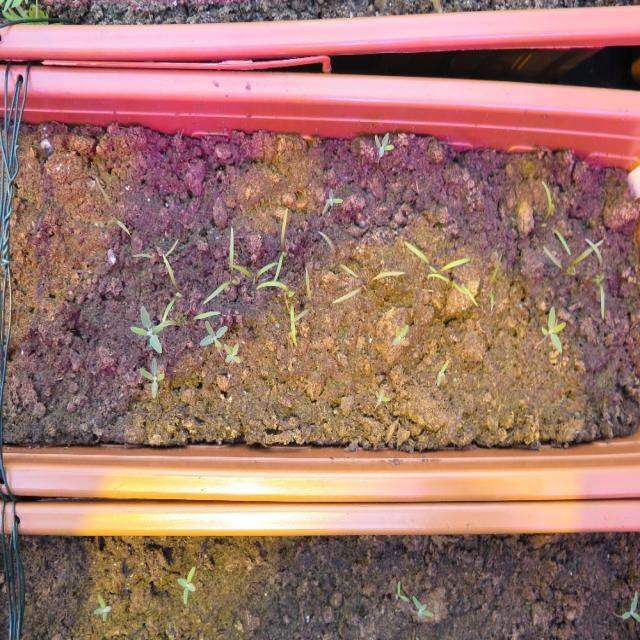weed: (540, 304, 566, 352), (138, 355, 164, 398), (176, 564, 195, 603), (92, 591, 112, 622), (411, 593, 433, 619), (374, 130, 394, 158), (322, 187, 342, 215), (392, 321, 408, 345), (222, 342, 240, 363), (436, 358, 448, 386), (396, 578, 409, 602), (374, 388, 390, 404)
